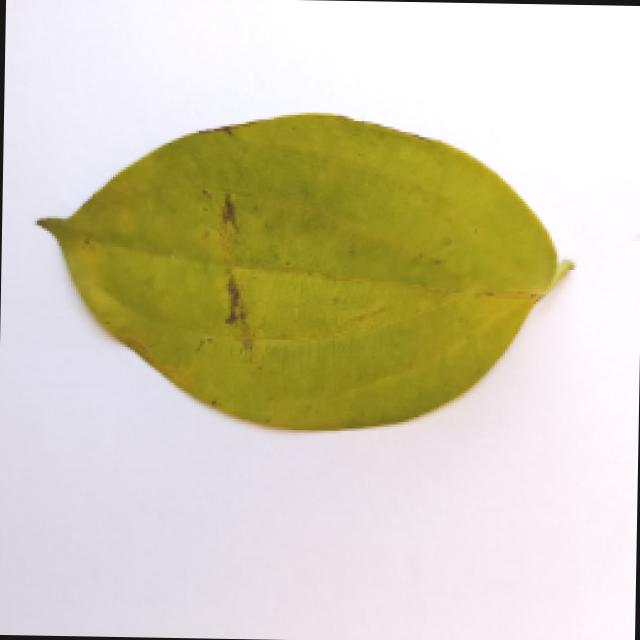slow-decline: (25, 105, 618, 450)
